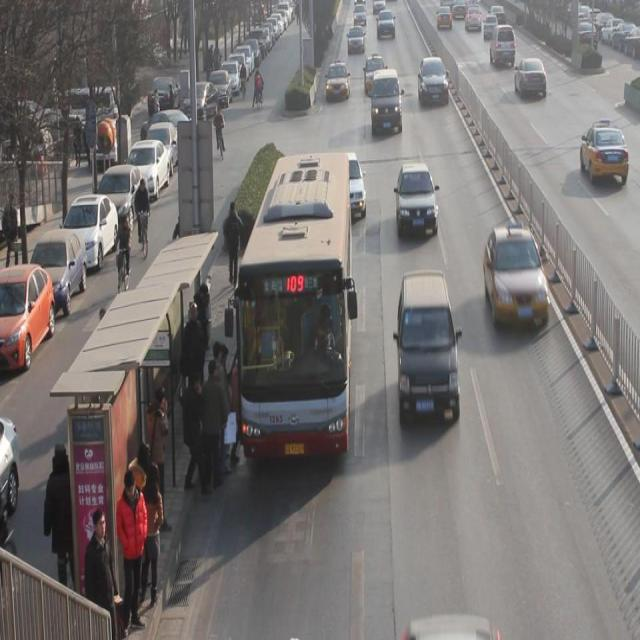car: (483, 225, 550, 328), (581, 120, 628, 187), (396, 164, 438, 237), (333, 151, 366, 218), (419, 57, 449, 108), (514, 56, 547, 100), (327, 61, 350, 103), (365, 53, 384, 96), (376, 10, 396, 40), (348, 25, 365, 56), (484, 16, 498, 39)
truck: (397, 272, 460, 423), (371, 68, 402, 135), (490, 24, 516, 68)
van: (238, 153, 351, 457)
